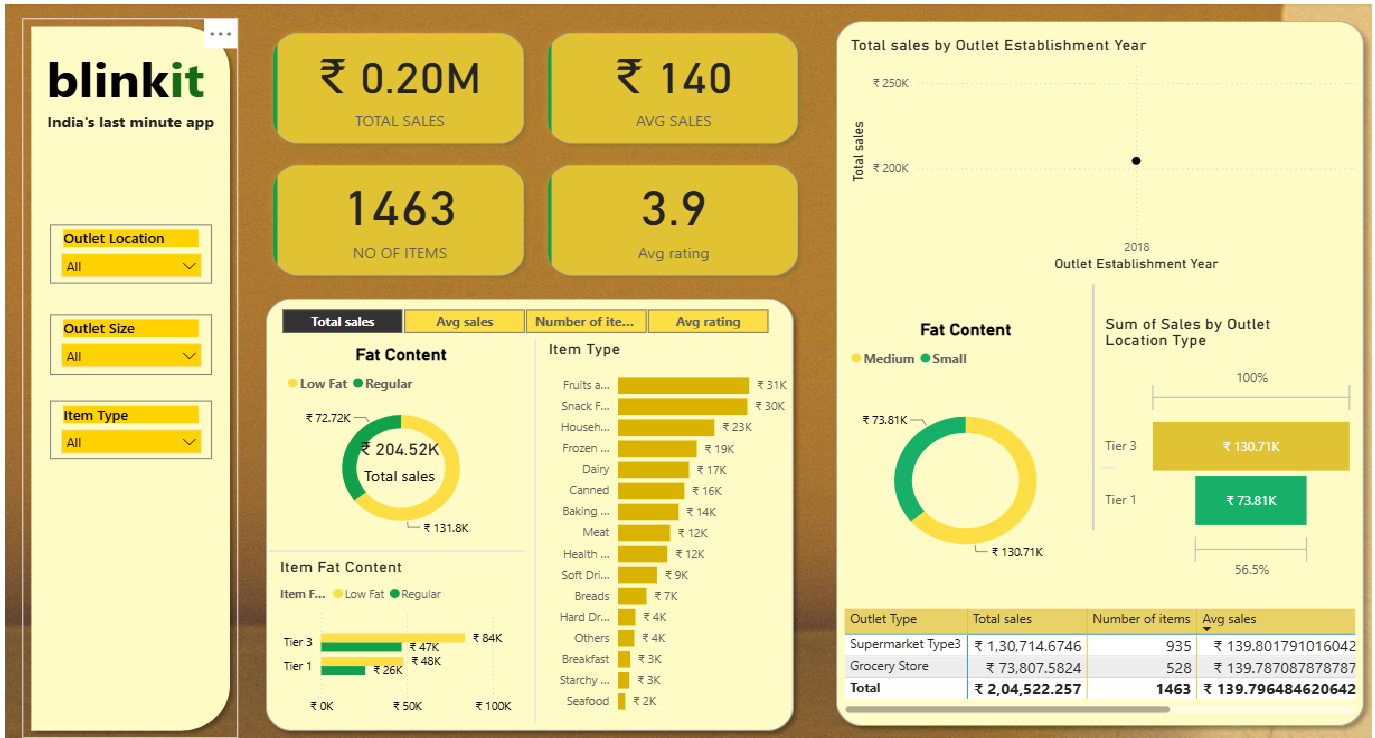

Layout of this report page (visuals, bound fields, positions):
{"tool":"powerbi","page":{"name":"Page 1","canvas":[1400,850],"ordinal":0},"visuals":[{"type":"shape","box":[24,18,220.6,821],"z":0},{"type":"textbox","box":[24,45,210.1,112.6],"z":1000},{"type":"textbox","box":[36,120.1,198.1,48],"z":2000},{"type":"cardVisual","fields":{"Data":["BlinkIT Grocery Data.Total sales","BlinkIT Grocery Data.Avg sales","BlinkIT Grocery Data.Number of items","BlinkIT Grocery Data.Avg rating"]},"box":[264.2,18,568.8,310.7],"z":3000},{"type":"shape","box":[264.2,328.7,555.3,510.3],"z":4000},{"type":"donutChart","title":" Fat Content","fields":{"Y":["BlinkIT Grocery Data.Total sales"],"Category":["BlinkIT Grocery Data.Item Fat Content"]},"box":[288.7,391.2,242.5,226.6],"z":5000},{"type":"slicer","fields":{"Values":["Metrics.Metrics"]},"box":[264.2,343.7,544.8,40],"z":6000},{"type":"card","fields":{"Values":["BlinkIT Grocery Data.Total sales"]},"box":[346.5,483.6,125.6,73.6],"z":7000},{"type":"clusteredBarChart","title":"Item Fat Content","fields":{"Y":["BlinkIT Grocery Data.Total sales"],"Category":["BlinkIT Grocery Data.Outlet Location Type"],"Series":["BlinkIT Grocery Data.Item Fat Content"]},"box":[282.2,633.4,255.1,187.6],"z":8000},{"type":"shape","box":[274.7,618.4,262.7,15],"z":9000},{"type":"shape","box":[541.8,384.2,12,436.8],"z":10000},{"type":"barChart","title":" Item Type","fields":{"Y":["BlinkIT Grocery Data.Total sales"],"Category":["BlinkIT Grocery Data.Item Type"]},"box":[555.3,384.2,253.6,436.8],"z":11000},{"type":"shape","box":[845,13.5,555.3,821],"z":12000},{"type":"shape","box":[1123.1,311.8,13,437.4],"z":13000},{"type":"donutChart","title":" Fat Content","fields":{"Y":["BlinkIT Grocery Data.Total sales"],"Category":["BlinkIT Grocery Data.Outlet Size"]},"box":[863,363.2,244.6,312.2],"z":15000},{"type":"shape","box":[1108.7,321.9,14.4,280.1],"z":16000},{"type":"funnel","fields":{"Y":["Sum(BlinkIT Grocery Data.Sales)"],"Category":["BlinkIT Grocery Data.Outlet Location Type"]},"box":[1122.6,355.7,264.2,319.7],"z":17000},{"type":"pivotTable","fields":{"Rows":["BlinkIT Grocery Data.Outlet Type"],"Values":["BlinkIT Grocery Data.Total sales","BlinkIT Grocery Data.Number of items","BlinkIT Grocery Data.Avg sales","BlinkIT Grocery Data.Avg rating","Sum(BlinkIT Grocery Data.Item Visibility)"]},"box":[857,685.9,529.8,129.1],"z":18000},{"type":"areaChart","fields":{"Category":["BlinkIT Grocery Data.Outlet Establishment Year"],"Y":["BlinkIT Grocery Data.Total sales"]},"box":[863,39,523.8,273.2],"z":19000},{"type":"slicer","fields":{"Values":["BlinkIT Grocery Data.Outlet Location Type"]},"box":[52.5,253.6,165.1,67.5],"z":20000},{"type":"slicer","fields":{"Values":["BlinkIT Grocery Data.Outlet Size"]},"box":[52.5,355.7,165.1,69],"z":21000},{"type":"slicer","fields":{"Values":["BlinkIT Grocery Data.Item Type"]},"box":[52.5,454.8,165.1,66],"z":22000}]}

Visuals, with their boxes on the page's 1400x850 design canvas (x1, y1, x2, y2). These are canvas units, not pixel positions in the 1375x738 screenshot, which may show the page scaled, cropped or inside an application window:
shape: (left=24, top=18, right=245, bottom=839)
textbox: (left=24, top=45, right=234, bottom=158)
textbox: (left=36, top=120, right=234, bottom=168)
cardVisual - BlinkIT Grocery Data.Total sales x BlinkIT Grocery Data.Avg sales: (left=264, top=18, right=833, bottom=329)
shape: (left=264, top=329, right=820, bottom=839)
" Fat Content" donutChart: (left=289, top=391, right=531, bottom=618)
slicer - Metrics.Metrics: (left=264, top=344, right=809, bottom=384)
card - BlinkIT Grocery Data.Total sales: (left=346, top=484, right=472, bottom=557)
"Item Fat Content" clusteredBarChart: (left=282, top=633, right=537, bottom=821)
shape: (left=275, top=618, right=537, bottom=633)
shape: (left=542, top=384, right=554, bottom=821)
" Item Type" barChart: (left=555, top=384, right=809, bottom=821)
shape: (left=845, top=14, right=1400, bottom=834)
shape: (left=1123, top=312, right=1136, bottom=749)
" Fat Content" donutChart: (left=863, top=363, right=1108, bottom=675)
shape: (left=1109, top=322, right=1123, bottom=602)
funnel - Sum(BlinkIT Grocery Data.Sales) x BlinkIT Grocery Data.Outlet Location Type: (left=1123, top=356, right=1387, bottom=675)
pivotTable - BlinkIT Grocery Data.Outlet Type x BlinkIT Grocery Data.Total sales: (left=857, top=686, right=1387, bottom=815)
areaChart - BlinkIT Grocery Data.Outlet Establishment Year x BlinkIT Grocery Data.Total sales: (left=863, top=39, right=1387, bottom=312)
slicer - BlinkIT Grocery Data.Outlet Location Type: (left=52, top=254, right=218, bottom=321)
slicer - BlinkIT Grocery Data.Outlet Size: (left=52, top=356, right=218, bottom=425)
slicer - BlinkIT Grocery Data.Item Type: (left=52, top=455, right=218, bottom=521)
